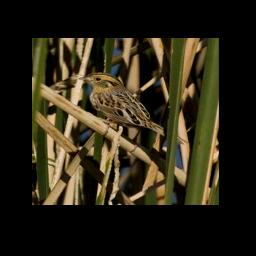Sparrow: (76, 71, 190, 146)
